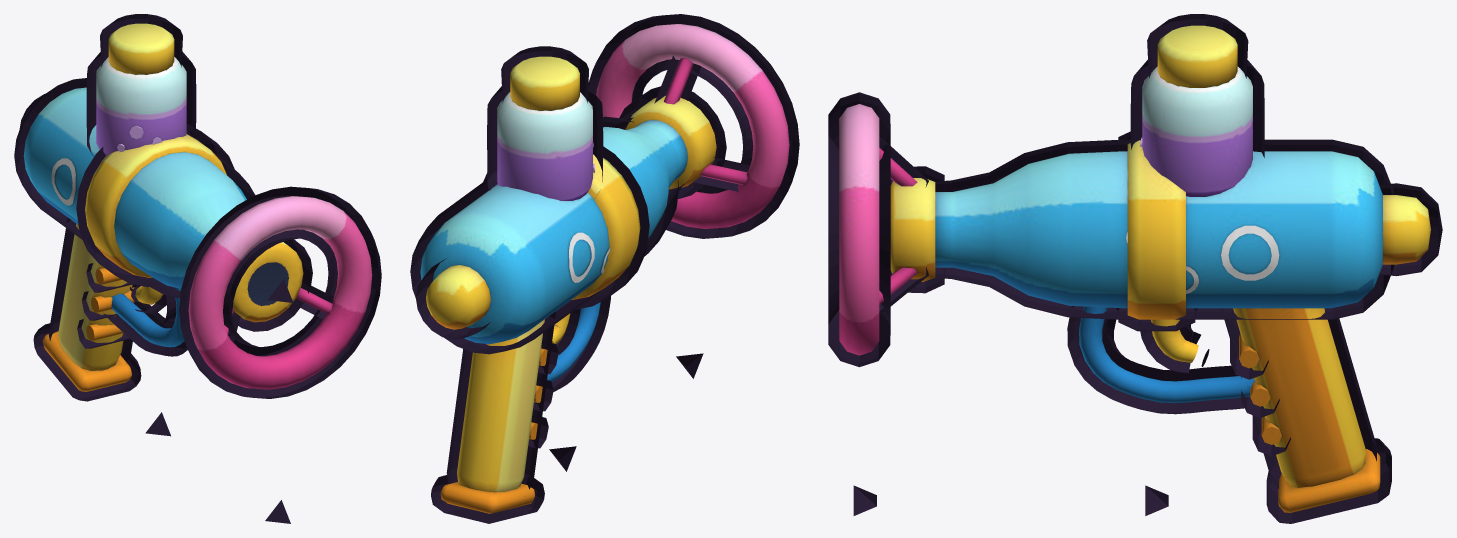
File: BubbleBlaster.glb
The picture shows the model from 3 angles, left to right: view 1: azimuth 30°, elevation 25°; view 2: azimuth 150°, elevation 25°; view 3: azimuth 270°, elevation 25°; orthographic projection. The views are drawn at different scales.
Parts seen in each view (by area): view 1: BubbleBlaster, BubbleBlaster_Outline; view 2: BubbleBlaster, BubbleBlaster_Outline; view 3: BubbleBlaster, BubbleBlaster_Outline.
Boxes of the visible parts, bbox=[...] form: BubbleBlaster: bbox=[23, 23, 372, 391]; BubbleBlaster_Outline: bbox=[14, 14, 381, 401]; BubbleBlaster: bbox=[420, 24, 789, 513]; BubbleBlaster_Outline: bbox=[410, 14, 799, 523]; BubbleBlaster: bbox=[839, 25, 1430, 512]; BubbleBlaster_Outline: bbox=[828, 14, 1442, 523].
Bounding box in the file's own units: 0.944 × 1.83 × 2.11.
2 materials, 2 textured.
